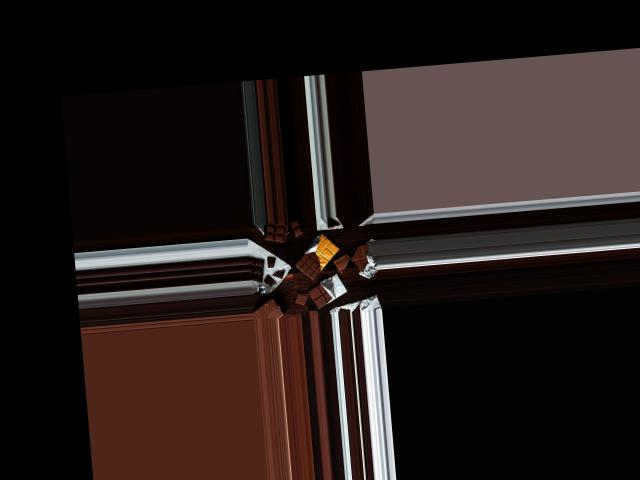chocolate: (306, 272, 346, 313)
